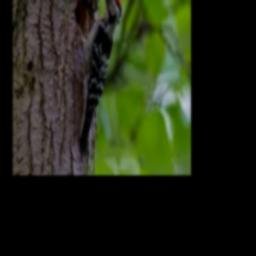Woodpecker: (75, 0, 121, 159)
